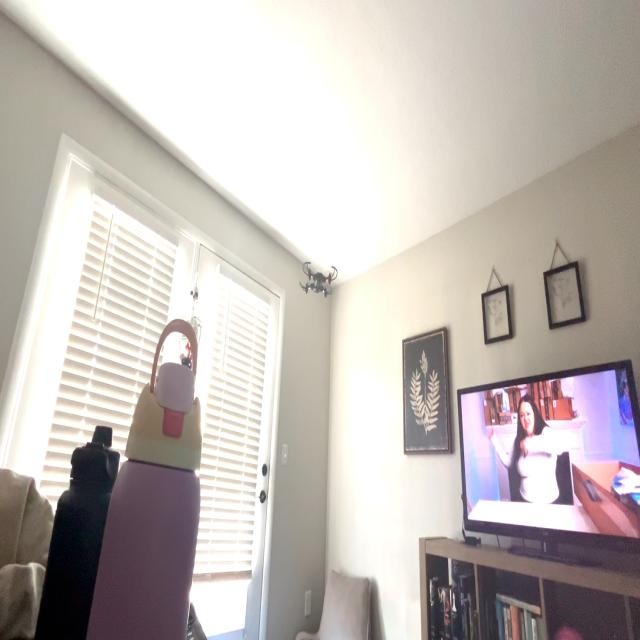drone: (288, 249, 344, 316)
